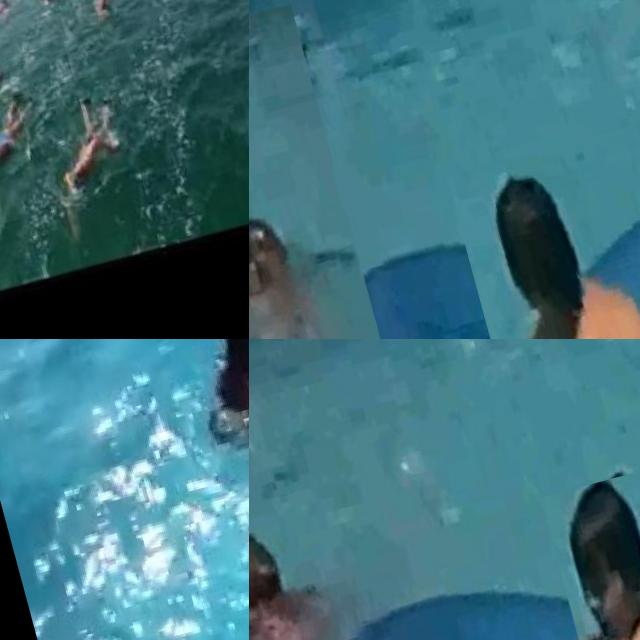drowning: (249, 2, 398, 339), (249, 454, 431, 640), (161, 339, 249, 514)
swimming: (445, 111, 640, 339), (539, 460, 640, 640), (40, 92, 144, 226), (0, 82, 60, 213)
